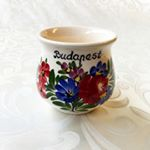cups: (29, 23, 121, 119)
